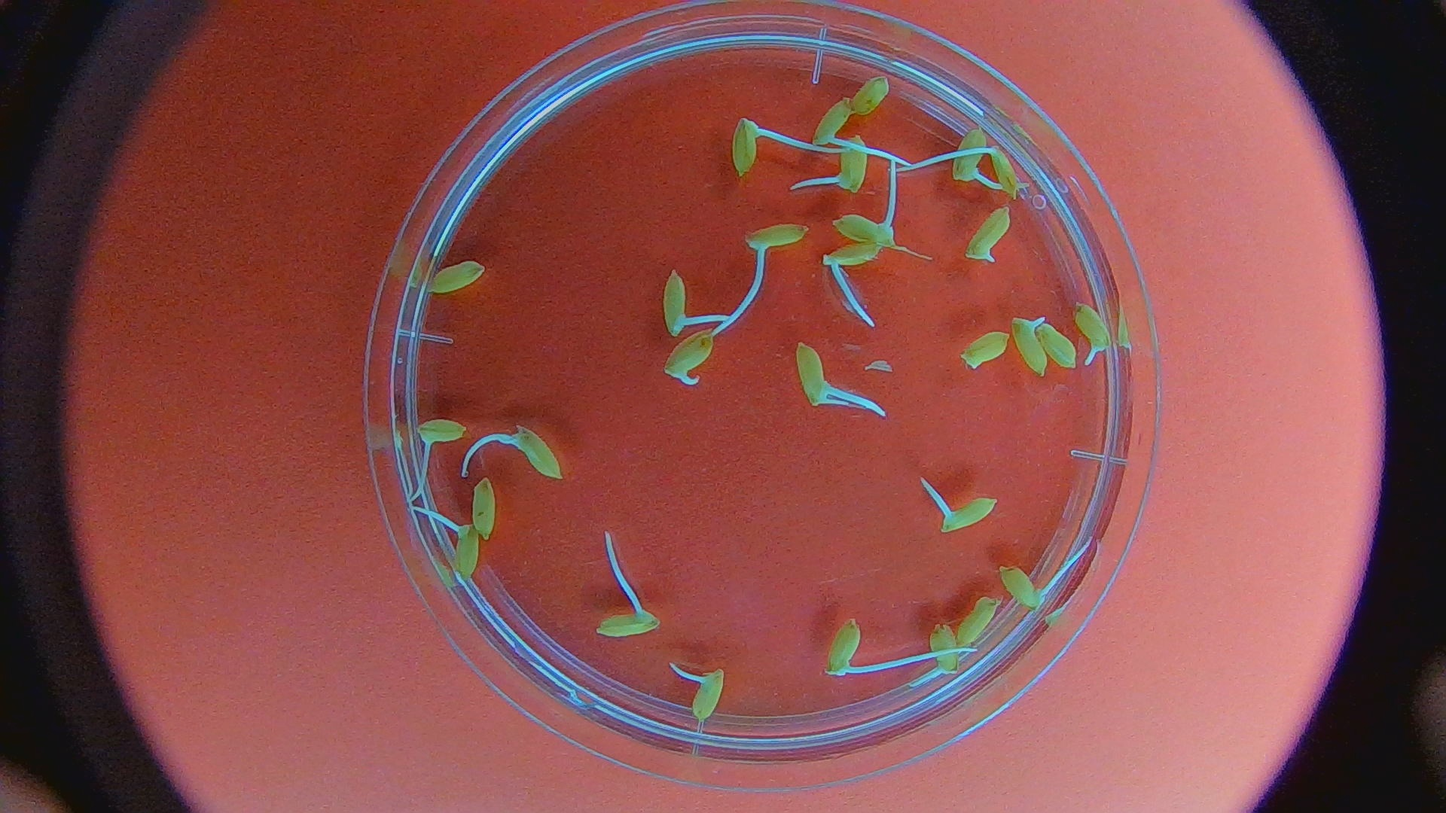no: (963, 205, 1013, 263), (953, 595, 1000, 646), (423, 259, 486, 295), (959, 328, 1012, 370), (472, 475, 499, 545), (1036, 324, 1078, 369), (853, 73, 889, 117)
yes: (507, 423, 564, 480), (665, 330, 713, 387), (743, 221, 812, 260), (689, 663, 727, 726), (1010, 313, 1048, 376), (792, 343, 829, 407), (952, 126, 992, 185), (592, 601, 654, 637), (825, 617, 862, 676), (832, 133, 868, 193), (662, 269, 694, 336), (834, 212, 898, 245), (448, 519, 483, 579), (812, 98, 853, 149), (731, 114, 764, 177), (1075, 304, 1114, 356), (999, 563, 1045, 607), (938, 499, 996, 532), (989, 145, 1022, 199), (817, 245, 880, 269), (419, 418, 468, 447), (929, 626, 956, 676)
